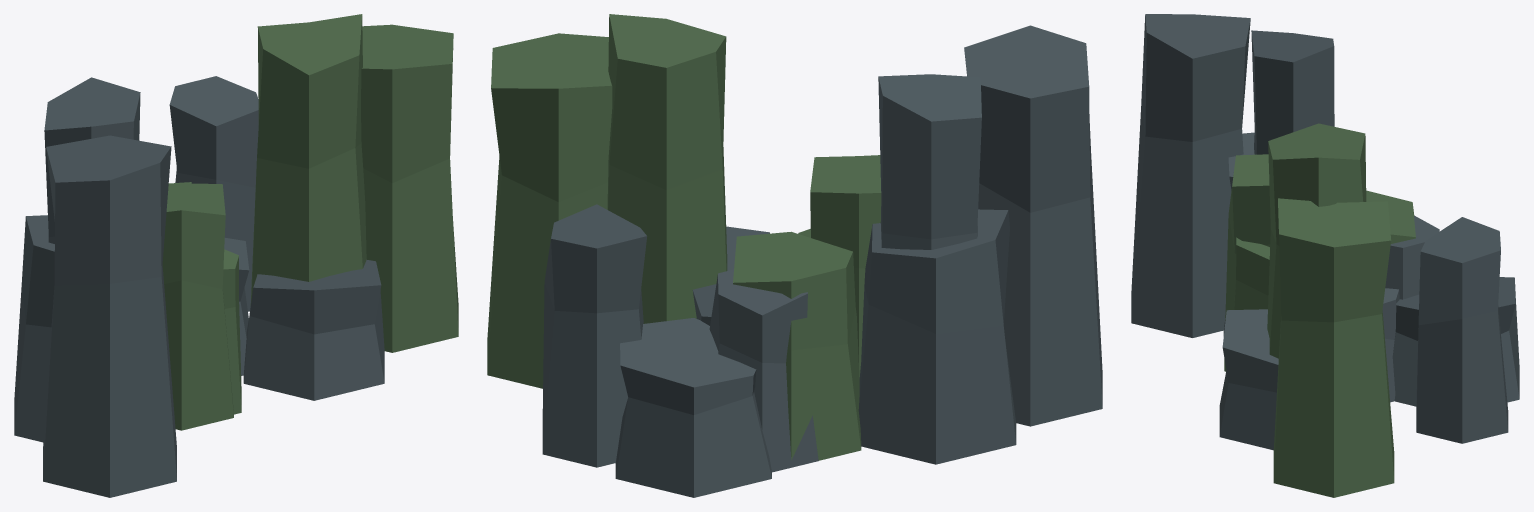
File: SM_RainBasaltCluster.glb
3 views of the same model, side by side, from view 1: azimuth 30°, elevation 25°; view 2: azimuth 150°, elevation 25°; view 3: azimuth 270°, elevation 25° (orthographic). The views are drawn at different scales.
Parts seen in each view (by area): view 1: SM_RainBasaltCluster; view 2: SM_RainBasaltCluster; view 3: SM_RainBasaltCluster.
Part boxes in pixels (x1,y1,x2,y2): SM_RainBasaltCluster: (14, 14, 458, 497); SM_RainBasaltCluster: (487, 14, 1102, 497); SM_RainBasaltCluster: (1131, 14, 1519, 497).
Bounding box in the file's own units: 8.86 × 5.53 × 6.63.
